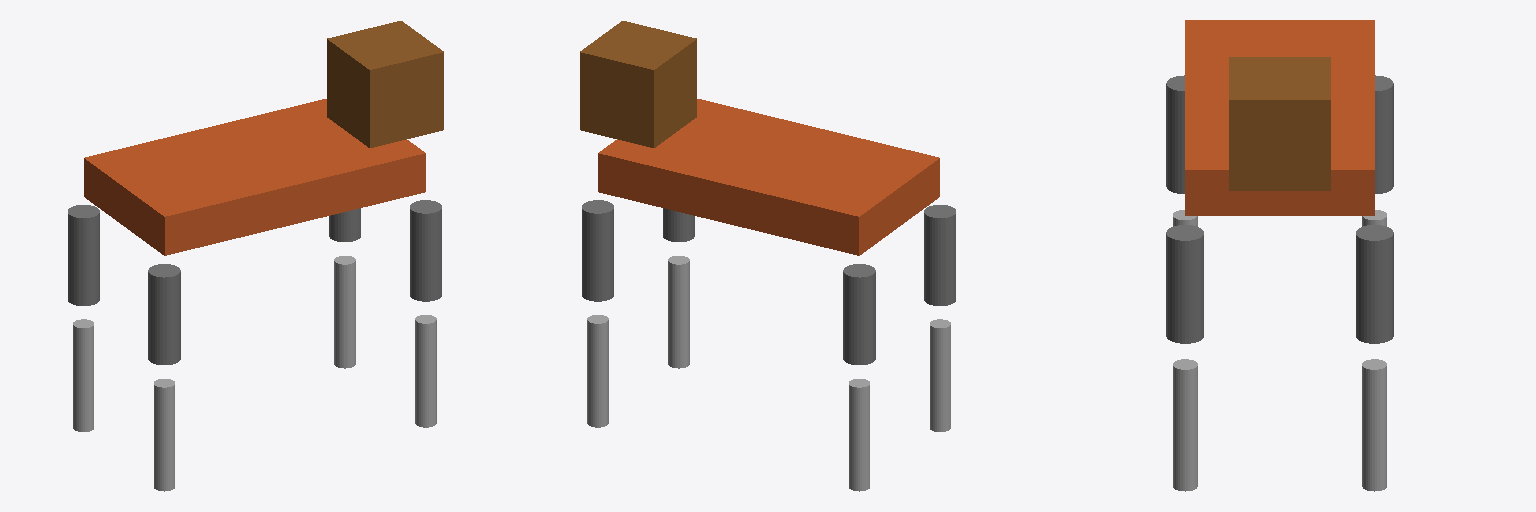
URDF robot description (simple_quadruped):
<?xml version="1.0"?>
<robot name="simple_quadruped">
  <material name="flat_cube_mat">
    <color rgba="0.8 0.4 0.2 1.0"/>
  </material>
  <material name="head_mat">
    <color rgba="0.6 0.4 0.2 1.0"/>
  </material>
  <material name="link_mat">
    <color rgba="0.5 0.5 0.5 1.0"/>
  </material>
  <material name="link2_mat">
    <color rgba="0.7 0.7 0.7 1.0"/>
  </material>

  <link name="base_link">
    <inertial>
      <origin xyz="0 0 0" rpy="0 0 0"/>
      <mass value="0.2"/>
      <inertia ixx="0.00042417" ixy="0" ixz="0" iyy="0.00067267" iyz="0" izz="0.00090617"/>
    </inertial>
    <visual>
      <origin xyz="0 0 0" rpy="0 0 0"/>
      <geometry>
        <box size="0.28 0.15 0.04"/>
      </geometry>
      <material name="flat_cube_mat"/>
    </visual>
    <collision>
      <origin xyz="0 0 0" rpy="0 0 0"/>
      <geometry>
        <box size="0.28 0.15 0.04"/>
      </geometry>
    </collision>
  </link>

  <link name="dog_head_link">
    <inertial>
      <origin xyz="0 0 0" rpy="0 0 0"/>
      <mass value="0.05"/>
      <inertia ixx="0.00005333" ixy="0" ixz="0" iyy="0.00005333" iyz="0" izz="0.00005333"/>
    </inertial>
    <visual>
      <origin xyz="0 0 0" rpy="1.5708 1.5708 0"/>
      <geometry>
        <box size="0.08 0.08 0.08"/>
      </geometry>
      <material name="head_mat"/>
    </visual>
    <collision>
      <origin xyz="0 0 0" rpy="1.5708 1.5708 0"/>
      <geometry>
        <box size="0.08 0.08 0.08"/>
      </geometry>
    </collision>
  </link>

  <joint name="dog_head_fixed" type="fixed">
    <parent link="base_link"/>
    <child link="dog_head_link"/>
    <origin xyz="0.14 0 0.06" rpy="0 0 0"/>
  </joint>

  <link name="h_back_right_link">
    <inertial>
      <origin xyz="0 0 -0.045" rpy="0 0 0"/>
      <mass value="0.1"/>
      <inertia ixx="0.00008437" ixy="0" ixz="0" iyy="0.00008437" iyz="0" izz="0.00001125"/>
    </inertial>
    <visual>
      <origin xyz="0 0 -0.045" rpy="0 0 0"/>
      <geometry>
        <cylinder radius="0.015" length="0.09"/>
      </geometry>
      <material name="link_mat"/>
    </visual>
    <collision>
      <origin xyz="0 0 -0.045" rpy="0 0 0"/>
      <geometry>
        <cylinder radius="0.015" length="0.09"/>
      </geometry>
    </collision>
  </link>

  <link name="l_back_right_link">
    <inertial>
      <origin xyz="0 0 -0.06315" rpy="0 0 0"/>
      <mass value="0.1"/>
      <inertia ixx="0.00009517" ixy="0" ixz="0" iyy="0.00009517" iyz="0" izz="0.00000500"/>
    </inertial>
    <visual>
      <origin xyz="0 0 -0.06315" rpy="0 0 0"/>
      <geometry>
        <cylinder radius="0.01" length="0.1063"/>
      </geometry>
      <material name="link2_mat"/>
    </visual>
    <collision>
      <origin xyz="0 0 -0.06315" rpy="0 0 0"/>
      <geometry>
        <cylinder radius="0.01" length="0.1063"/>
      </geometry>
    </collision>
  </link>

  <joint name="h_back_right" type="revolute">
    <parent link="base_link"/>
    <child link="h_back_right_link"/>
    <origin xyz="-0.14 -0.075 -0.035" rpy="0 0 0"/>
    <axis xyz="0 1 0"/>
    <limit lower="-1.57" upper="1.57" effort="100" velocity="10"/>
    <dynamics damping="0.1" friction="0.01"/>
  </joint>

  <joint name="l_back_right" type="revolute">
    <parent link="h_back_right_link"/>
    <child link="l_back_right_link"/>
    <origin xyz="0 0 -0.105" rpy="0 0 0"/>
    <axis xyz="0 1 0"/>
    <limit lower="-3.1416" upper="0" effort="100" velocity="10"/>
    <dynamics damping="0.1" friction="0.01"/>
  </joint>

  <link name="h_front_right_link">
    <inertial>
      <origin xyz="0 0 -0.045" rpy="0 0 0"/>
      <mass value="0.1"/>
      <inertia ixx="0.00008437" ixy="0" ixz="0" iyy="0.00008437" iyz="0" izz="0.00001125"/>
    </inertial>
    <visual>
      <origin xyz="0 0 -0.045" rpy="0 0 0"/>
      <geometry>
        <cylinder radius="0.015" length="0.09"/>
      </geometry>
      <material name="link_mat"/>
    </visual>
    <collision>
      <origin xyz="0 0 -0.045" rpy="0 0 0"/>
      <geometry>
        <cylinder radius="0.015" length="0.09"/>
      </geometry>
    </collision>
  </link>

  <link name="l_front_right_link">
    <inertial>
      <origin xyz="0 0 -0.06315" rpy="0 0 0"/>
      <mass value="0.1"/>
      <inertia ixx="0.00009517" ixy="0" ixz="0" iyy="0.00009517" iyz="0" izz="0.00000500"/>
    </inertial>
    <visual>
      <origin xyz="0 0 -0.06315" rpy="0 0 0"/>
      <geometry>
        <cylinder radius="0.01" length="0.1063"/>
      </geometry>
      <material name="link2_mat"/>
    </visual>
    <collision>
      <origin xyz="0 0 -0.06315" rpy="0 0 0"/>
      <geometry>
        <cylinder radius="0.01" length="0.1063"/>
      </geometry>
    </collision>
  </link>

  <joint name="h_front_right" type="revolute">
    <parent link="base_link"/>
    <child link="h_front_right_link"/>
    <origin xyz="0.14 -0.075 -0.035" rpy="0 0 0"/>
    <axis xyz="0 1 0"/>
    <limit lower="-1.57" upper="1.57" effort="100" velocity="10"/>
    <dynamics damping="0.1" friction="0.01"/>
  </joint>

  <joint name="l_front_right" type="revolute">
    <parent link="h_front_right_link"/>
    <child link="l_front_right_link"/>
    <origin xyz="0 0 -0.105" rpy="0 0 0"/>
    <axis xyz="0 1 0"/>
    <limit lower="-3.1416" upper="0" effort="100" velocity="10"/>
    <dynamics damping="0.1" friction="0.01"/>
  </joint>

  <link name="h_back_left_link">
    <inertial>
      <origin xyz="0 0 -0.045" rpy="0 0 0"/>
      <mass value="0.1"/>
      <inertia ixx="0.00008437" ixy="0" ixz="0" iyy="0.00008437" iyz="0" izz="0.00001125"/>
    </inertial>
    <visual>
      <origin xyz="0 0 -0.045" rpy="0 0 0"/>
      <geometry>
        <cylinder radius="0.015" length="0.09"/>
      </geometry>
      <material name="link_mat"/>
    </visual>
    <collision>
      <origin xyz="0 0 -0.045" rpy="0 0 0"/>
      <geometry>
        <cylinder radius="0.015" length="0.09"/>
      </geometry>
    </collision>
  </link>

  <link name="l_back_left_link">
    <inertial>
      <origin xyz="0 0 -0.06315" rpy="0 0 0"/>
      <mass value="0.1"/>
      <inertia ixx="0.00009517" ixy="0" ixz="0" iyy="0.00009517" iyz="0" izz="0.00000500"/>
    </inertial>
    <visual>
      <origin xyz="0 0 -0.06315" rpy="0 0 0"/>
      <geometry>
        <cylinder radius="0.01" length="0.1063"/>
      </geometry>
      <material name="link2_mat"/>
    </visual>
    <collision>
      <origin xyz="0 0 -0.06315" rpy="0 0 0"/>
      <geometry>
        <cylinder radius="0.01" length="0.1063"/>
      </geometry>
    </collision>
  </link>

  <joint name="h_back_left" type="revolute">
    <parent link="base_link"/>
    <child link="h_back_left_link"/>
    <origin xyz="-0.14 0.075 -0.035" rpy="0 0 0"/>
    <axis xyz="0 1 0"/>
    <limit lower="-1.57" upper="1.57" effort="100" velocity="10"/>
    <dynamics damping="0.1" friction="0.01"/>
  </joint>

  <joint name="l_back_left" type="revolute">
    <parent link="h_back_left_link"/>
    <child link="l_back_left_link"/>
    <origin xyz="0 0 -0.105" rpy="0 0 0"/>
    <axis xyz="0 1 0"/>
    <limit lower="-3.1416" upper="0" effort="100" velocity="10"/>
    <dynamics damping="0.1" friction="0.01"/>
  </joint>

  <link name="h_front_left_link">
    <inertial>
      <origin xyz="0 0 -0.045" rpy="0 0 0"/>
      <mass value="0.1"/>
      <inertia ixx="0.00008437" ixy="0" ixz="0" iyy="0.00008437" iyz="0" izz="0.00001125"/>
    </inertial>
    <visual>
      <origin xyz="0 0 -0.045" rpy="0 0 0"/>
      <geometry>
        <cylinder radius="0.015" length="0.09"/>
      </geometry>
      <material name="link_mat"/>
    </visual>
    <collision>
      <origin xyz="0 0 -0.045" rpy="0 0 0"/>
      <geometry>
        <cylinder radius="0.015" length="0.09"/>
      </geometry>
    </collision>
  </link>

  <link name="l_front_left_link">
    <inertial>
      <origin xyz="0 0 -0.06315" rpy="0 0 0"/>
      <mass value="0.1"/>
      <inertia ixx="0.00009517" ixy="0" ixz="0" iyy="0.00009517" iyz="0" izz="0.00000500"/>
    </inertial>
    <visual>
      <origin xyz="0 0 -0.06315" rpy="0 0 0"/>
      <geometry>
        <cylinder radius="0.01" length="0.1063"/>
      </geometry>
      <material name="link2_mat"/>
    </visual>
    <collision>
      <origin xyz="0 0 -0.06315" rpy="0 0 0"/>
      <geometry>
        <cylinder radius="0.01" length="0.1063"/>
      </geometry>
    </collision>
  </link>

  <joint name="h_front_left" type="revolute">
    <parent link="base_link"/>
    <child link="h_front_left_link"/>
    <origin xyz="0.14 0.075 -0.035" rpy="0 0 0"/>
    <axis xyz="0 1 0"/>
    <limit lower="-1.57" upper="1.57" effort="100" velocity="10"/>
    <dynamics damping="0.1" friction="0.01"/>
  </joint>

  <joint name="l_front_left" type="revolute">
    <parent link="h_front_left_link"/>
    <child link="l_front_left_link"/>
    <origin xyz="0 0 -0.105" rpy="0 0 0"/>
    <axis xyz="0 1 0"/>
    <limit lower="-3.1416" upper="0" effort="100" velocity="10"/>
    <dynamics damping="0.1" friction="0.01"/>
  </joint>
</robot>

--- What the picture shows (computed from the rendered views, not written in the file) ---
Views: 3 orthographic renders of the robot side by side, from view 1: azimuth 30°, elevation 25°; view 2: azimuth 150°, elevation 25°; view 3: azimuth 270°, elevation 25°.
Model simple_quadruped with 10 links and 9 joints (8 revolute, 1 fixed), rooted at base_link, posed every joint at zero.
Links seen in each view (by area): view 1: base_link, dog_head_link, h_back_right_link, h_front_right_link, h_back_left_link, l_front_right_link, l_front_left_link, l_back_left_link, l_back_right_link, h_front_left_link; view 2: base_link, dog_head_link, h_back_left_link, h_front_left_link, h_back_right_link, l_front_left_link, l_front_right_link, l_back_right_link, l_back_left_link, h_front_right_link; view 3: base_link, dog_head_link, h_front_right_link, h_front_left_link, l_front_right_link, l_front_left_link, h_back_right_link, h_back_left_link.
Boxes of the visible links, left/top/right/bottom form: base_link: left=84, top=99, right=425, bottom=255; dog_head_link: left=327, top=21, right=443, bottom=147; h_back_right_link: left=148, top=264, right=180, bottom=364; h_front_right_link: left=410, top=200, right=441, bottom=301; h_back_left_link: left=68, top=205, right=99, bottom=305; l_front_right_link: left=415, top=315, right=436, bottom=427; l_front_left_link: left=334, top=256, right=355, bottom=368; l_back_left_link: left=73, top=319, right=93, bottom=431; l_back_right_link: left=154, top=379, right=174, bottom=491; h_front_left_link: left=329, top=208, right=360, bottom=241; base_link: left=598, top=99, right=939, bottom=255; dog_head_link: left=580, top=21, right=696, bottom=147; h_back_left_link: left=843, top=264, right=875, bottom=364; h_front_left_link: left=582, top=200, right=613, bottom=301; h_back_right_link: left=924, top=205, right=955, bottom=305; l_front_left_link: left=587, top=315, right=608, bottom=427; l_front_right_link: left=668, top=256, right=689, bottom=368; l_back_right_link: left=930, top=319, right=950, bottom=431; l_back_left_link: left=849, top=379, right=869, bottom=491; h_front_right_link: left=663, top=208, right=694, bottom=241; base_link: left=1185, top=20, right=1374, bottom=215; dog_head_link: left=1229, top=57, right=1330, bottom=190; h_front_right_link: left=1166, top=225, right=1203, bottom=343; h_front_left_link: left=1356, top=225, right=1393, bottom=343; l_front_right_link: left=1173, top=359, right=1197, bottom=491; l_front_left_link: left=1362, top=359, right=1386, bottom=491; h_back_right_link: left=1166, top=75, right=1184, bottom=193; h_back_left_link: left=1375, top=75, right=1393, bottom=193.
Bounding box of the posed robot: 0.335 × 0.18 × 0.3563 m (x, y, z).
Geometry: primitives only (box / cylinder / sphere), no mesh files.
